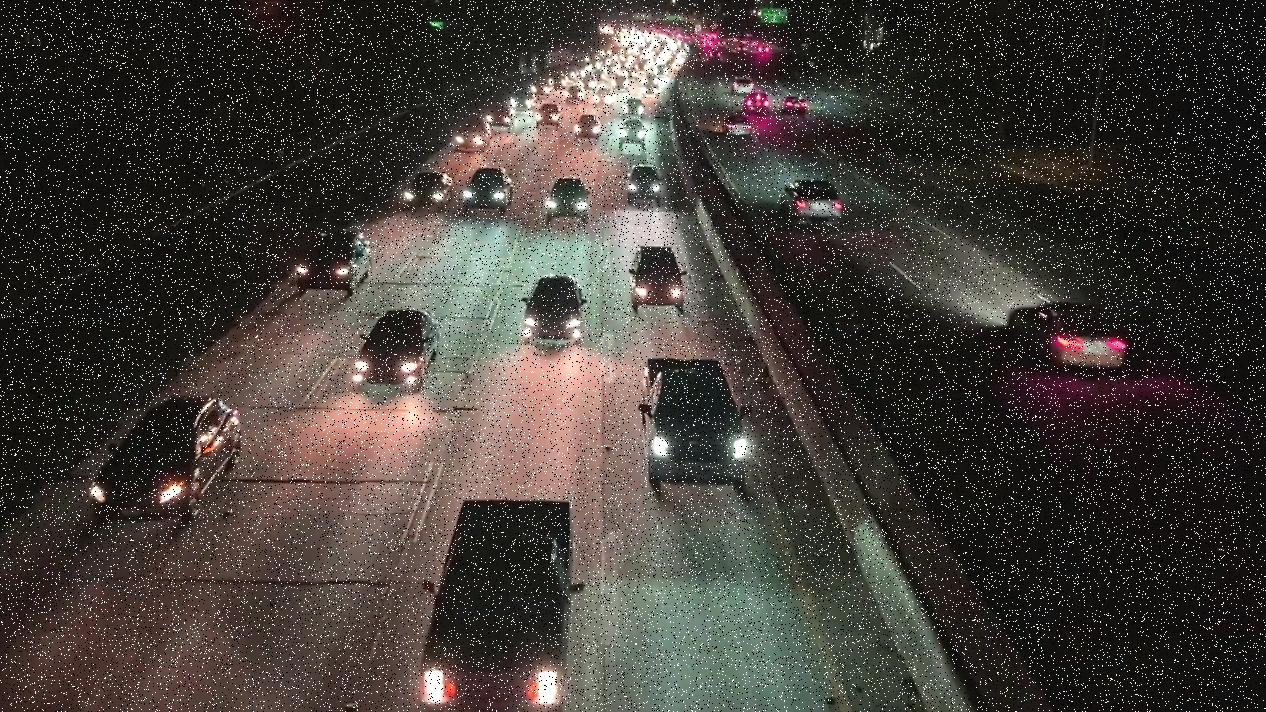car: (414, 498, 591, 700), (82, 391, 274, 537), (632, 346, 759, 488), (1011, 302, 1134, 373), (354, 308, 439, 399), (286, 226, 378, 291), (522, 274, 585, 349), (628, 245, 689, 313), (535, 172, 592, 226), (465, 161, 517, 217), (783, 182, 845, 226), (621, 162, 668, 211), (404, 170, 454, 207), (452, 115, 490, 158), (569, 113, 605, 144), (617, 119, 653, 148), (726, 72, 757, 97), (719, 115, 753, 137), (535, 102, 566, 126), (740, 91, 771, 114), (621, 98, 646, 119), (783, 96, 810, 115)
